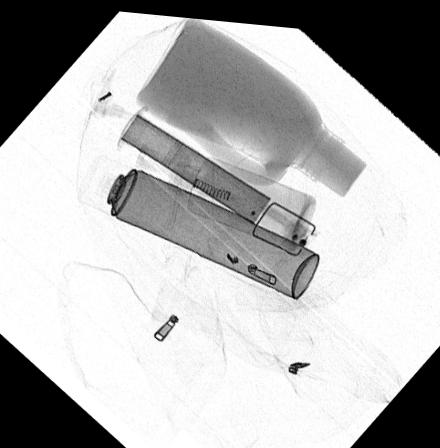Sprayer: (75, 154, 320, 293)
